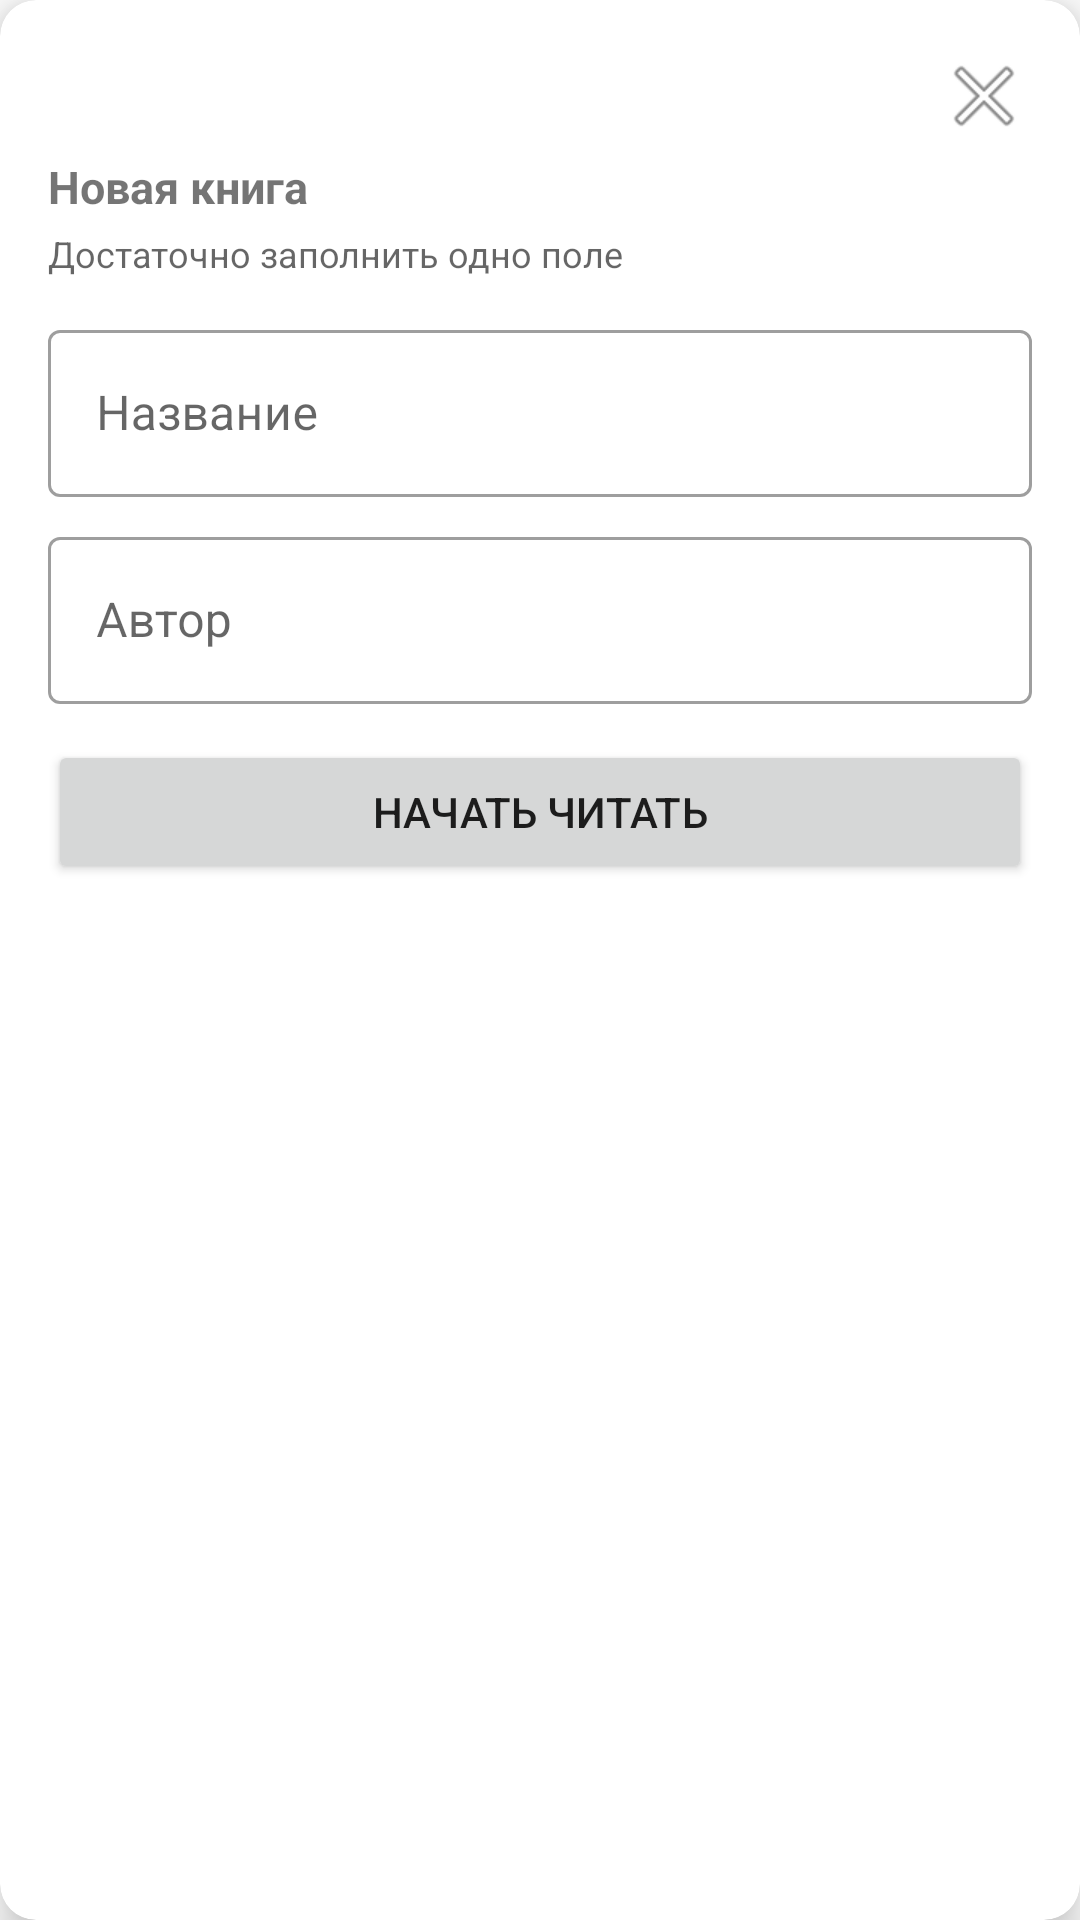

Point at icon controls on the screen. Image size 1080 x 1920, points as [x,y].
Закрыть: [984,96]
